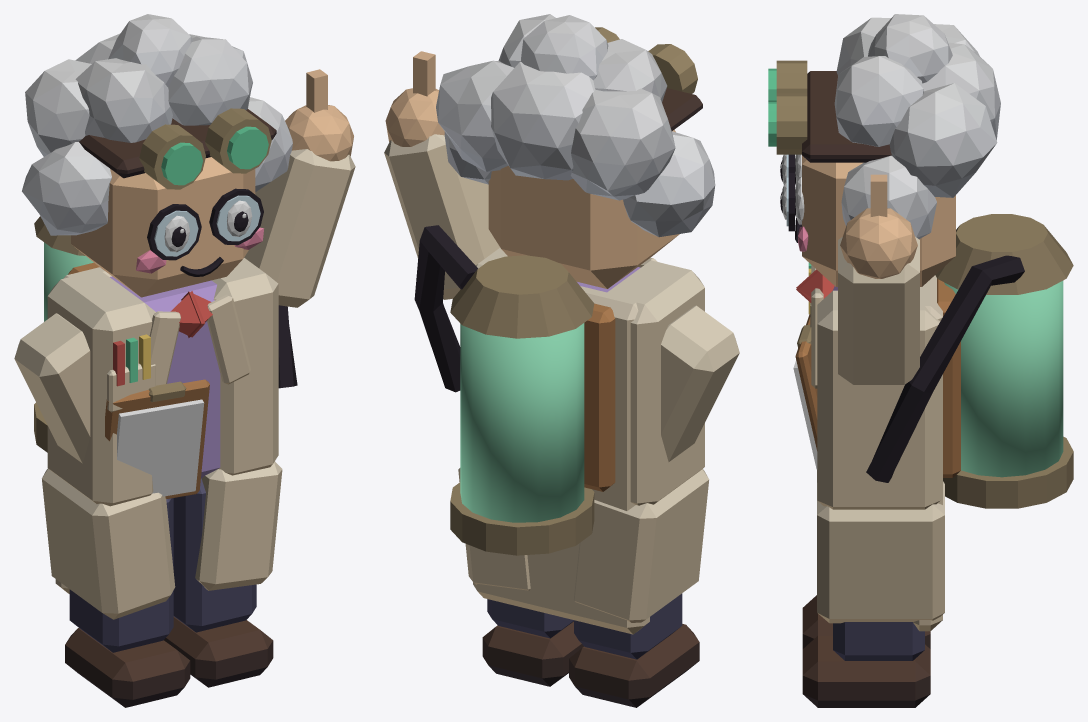
Rendered from guide_professor.fbx.
3 views of the same model, side by side, from view 1: azimuth 30°, elevation 25°; view 2: azimuth 150°, elevation 25°; view 3: azimuth 270°, elevation 25° (orthographic). The views are drawn at different scales.
Visible parts, largest first — view 1: guide_professor; view 2: guide_professor; view 3: guide_professor.
Part boxes in pixels (x1,y1,x2,y2): guide_professor: (14,14,355,707); guide_professor: (384,14,739,707); guide_professor: (768,14,1073,707).
Size of the model in its own units: 3.72 by 7.06 by 2.98.
